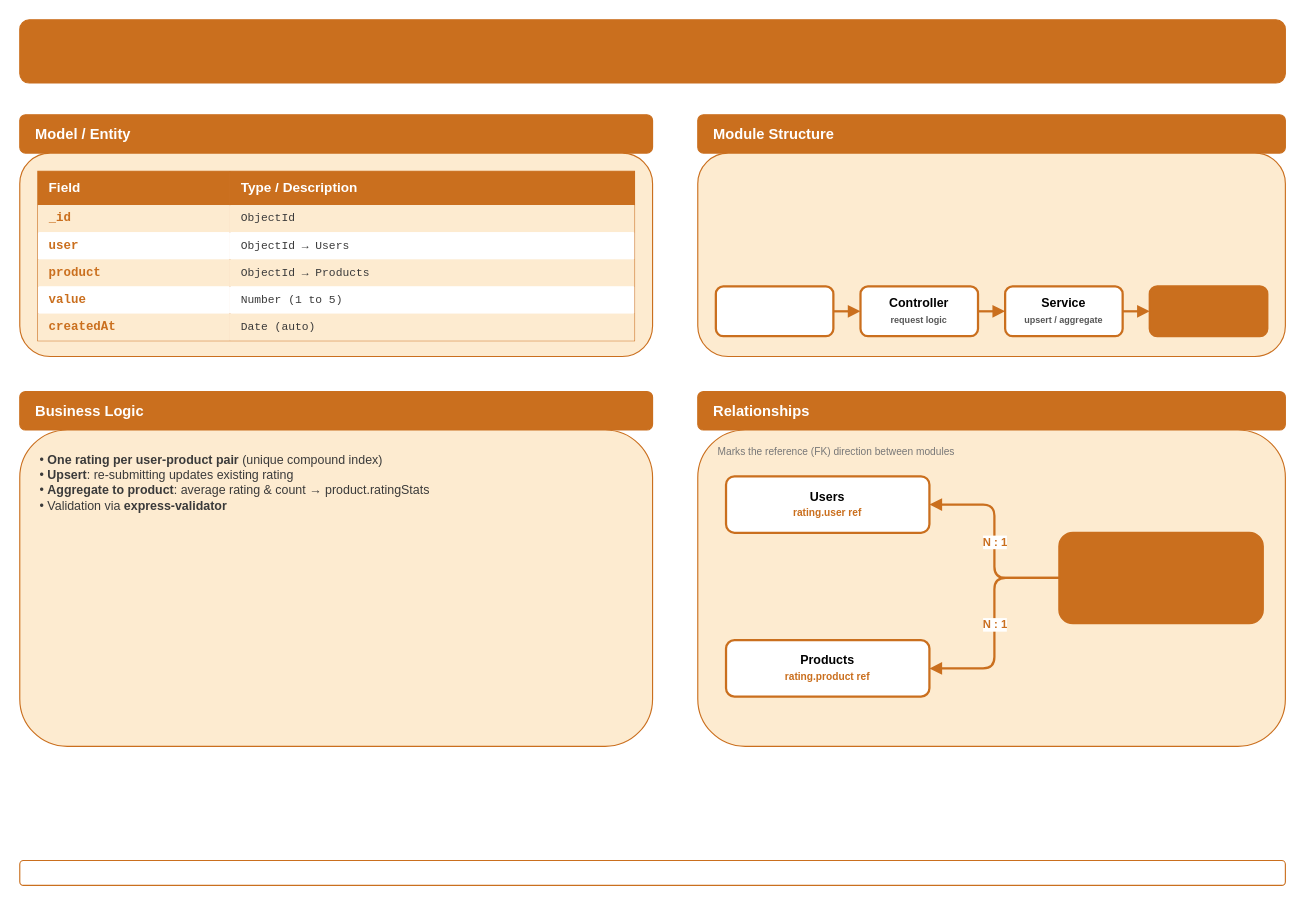
Image size: 1305x905. Some labels were removed from this diagram. The centre of each missing label's shape, as x and y in pixels:
Model Mongoose schema: [1208,311]
On Store API · Ratings Module Overview: [652,872]
Rating ratings module: [1160,577]
Ratings Module Product ratings, feedback & aggregate stats: [652,51]
Route HTTP routes: [774,311]
